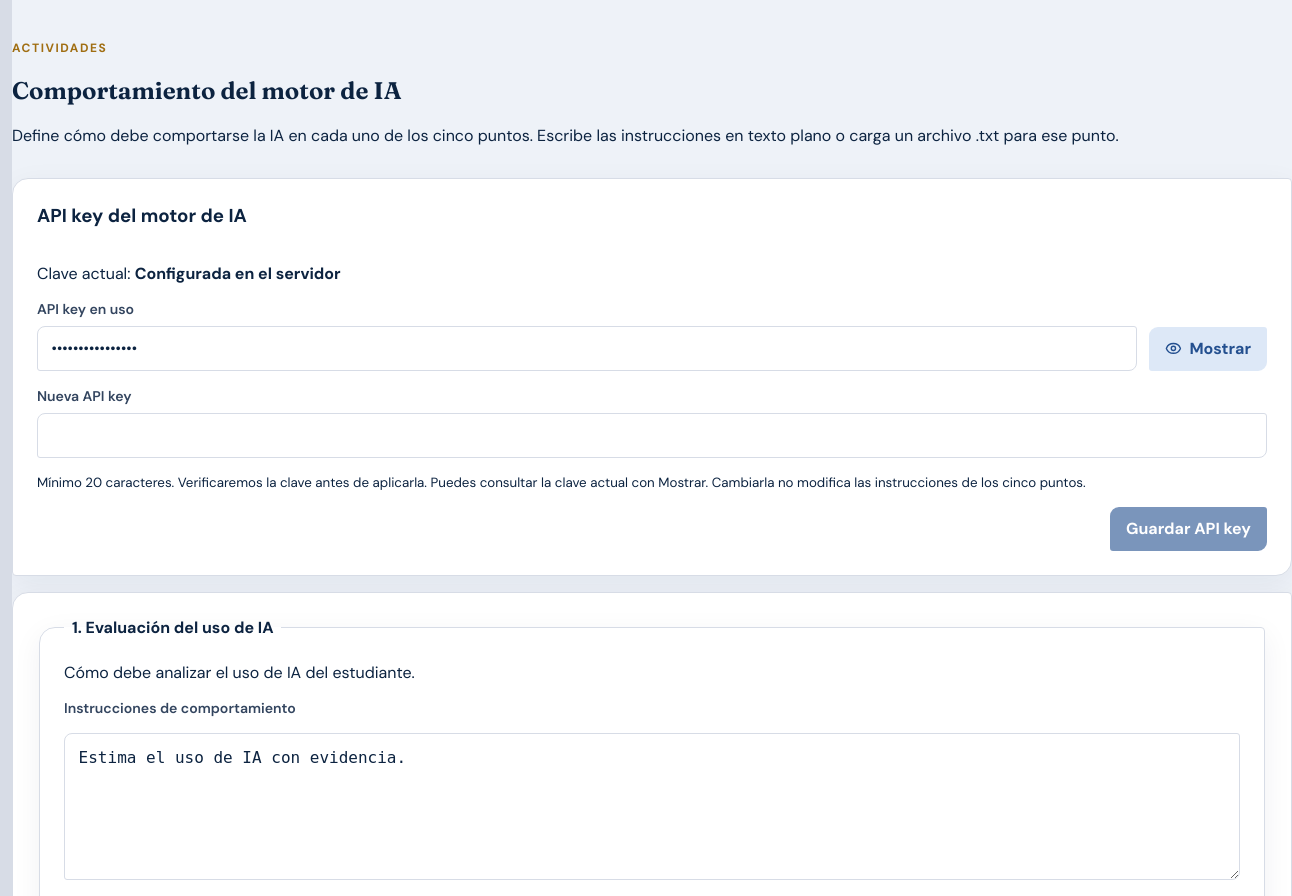
Test: AdminAiSettings › only fetches the active key when requested, hides it, and fetches a fresh key when revealed again
Click the button with class "ai-reveal-key".
click(1208, 349)  # box left=1149, top=327, right=1267, bottom=371
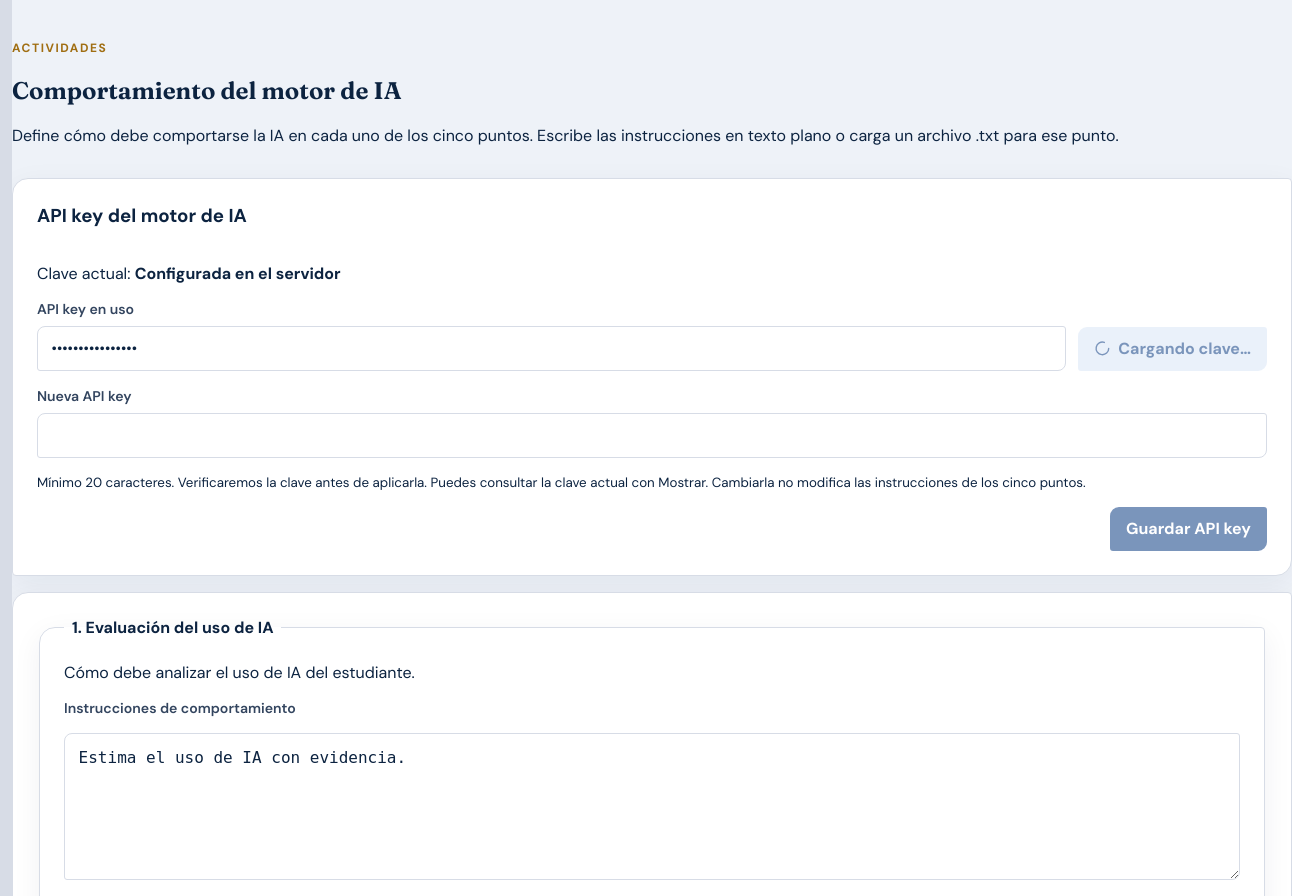
Now the button with class "ai-reveal-key" shows "Cargando clave"
Now the icon with class "icon-spin" is shown, box left=1094, top=340, right=1111, bottom=357
Now the button with class "ai-reveal-key" is disabled
Click the button with class "ai-reveal-key".
click(1173, 349)  # box left=1078, top=327, right=1267, bottom=371
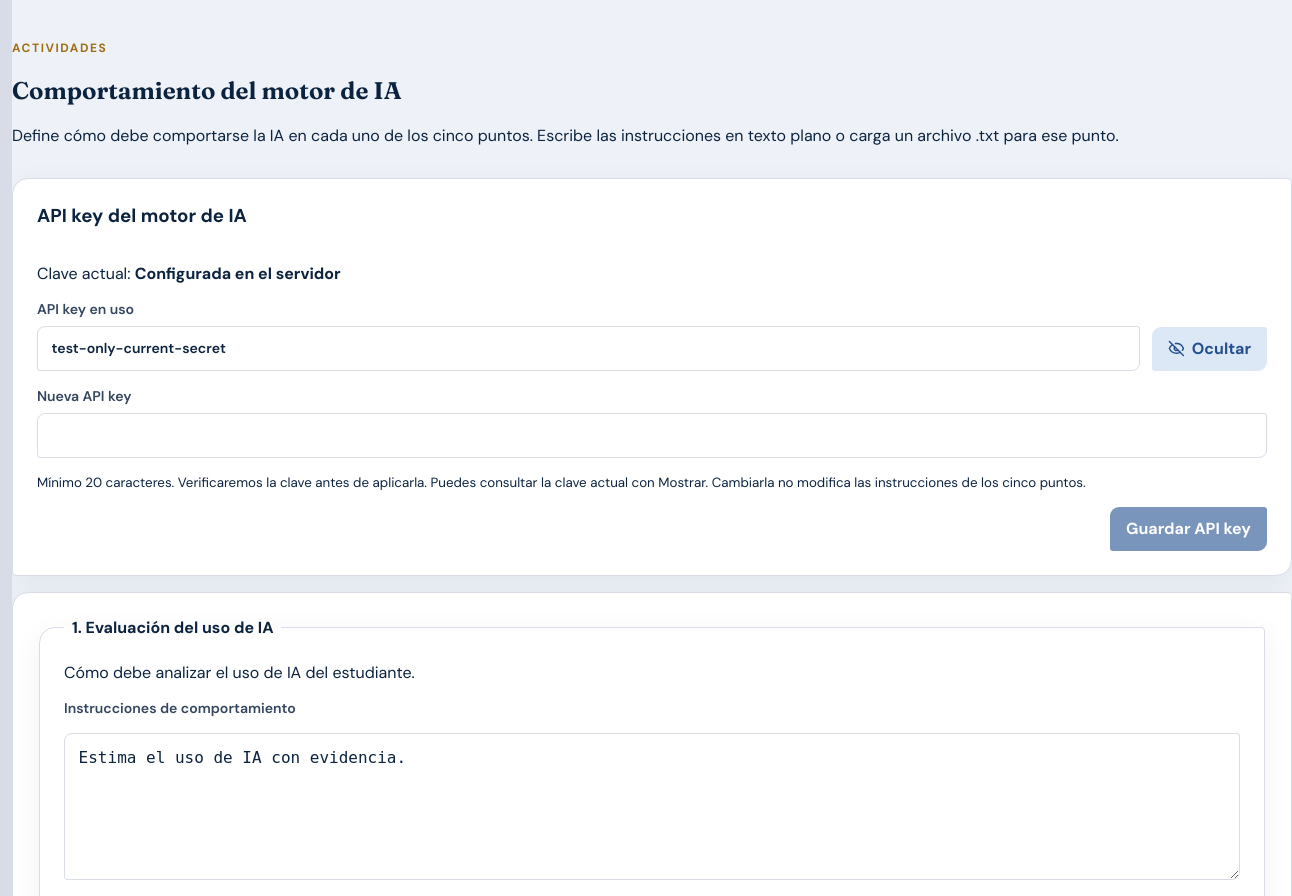
Now the field with id "ai-active-api-key" shows its text, box left=37, top=326, right=1140, bottom=371
Now the field with id "ai-active-api-key" holds "test-only-current-secret", box left=37, top=326, right=1140, bottom=371
Now the button with class "ai-reveal-key" reads "Ocultar"
Click the button with class "ai-reveal-key".
click(1209, 349)  # box left=1152, top=327, right=1267, bottom=371
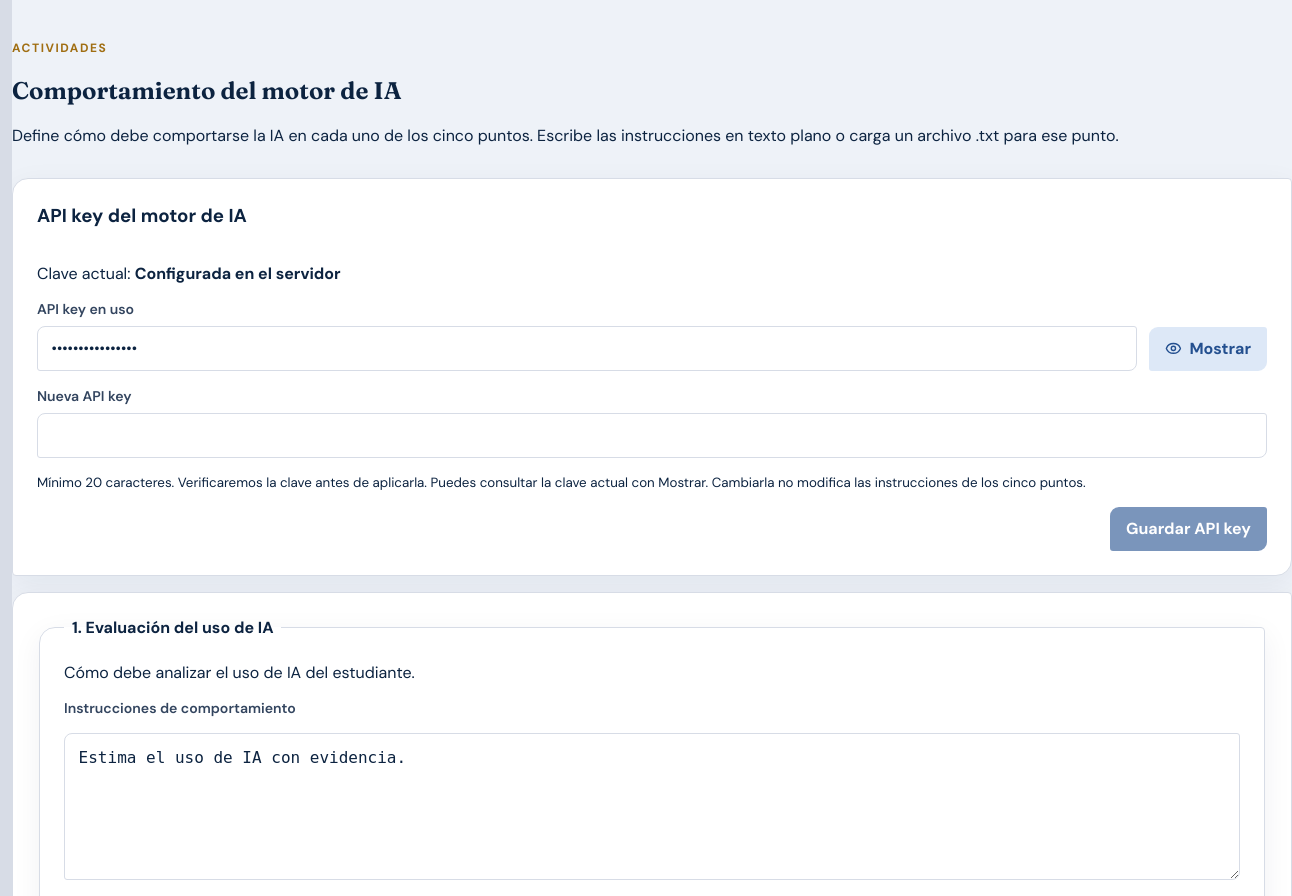
Now the password field with id "ai-active-api-key" hides its text, box left=37, top=326, right=1137, bottom=371
Click the button with class "ai-reveal-key".
click(1208, 349)  # box left=1149, top=327, right=1267, bottom=371
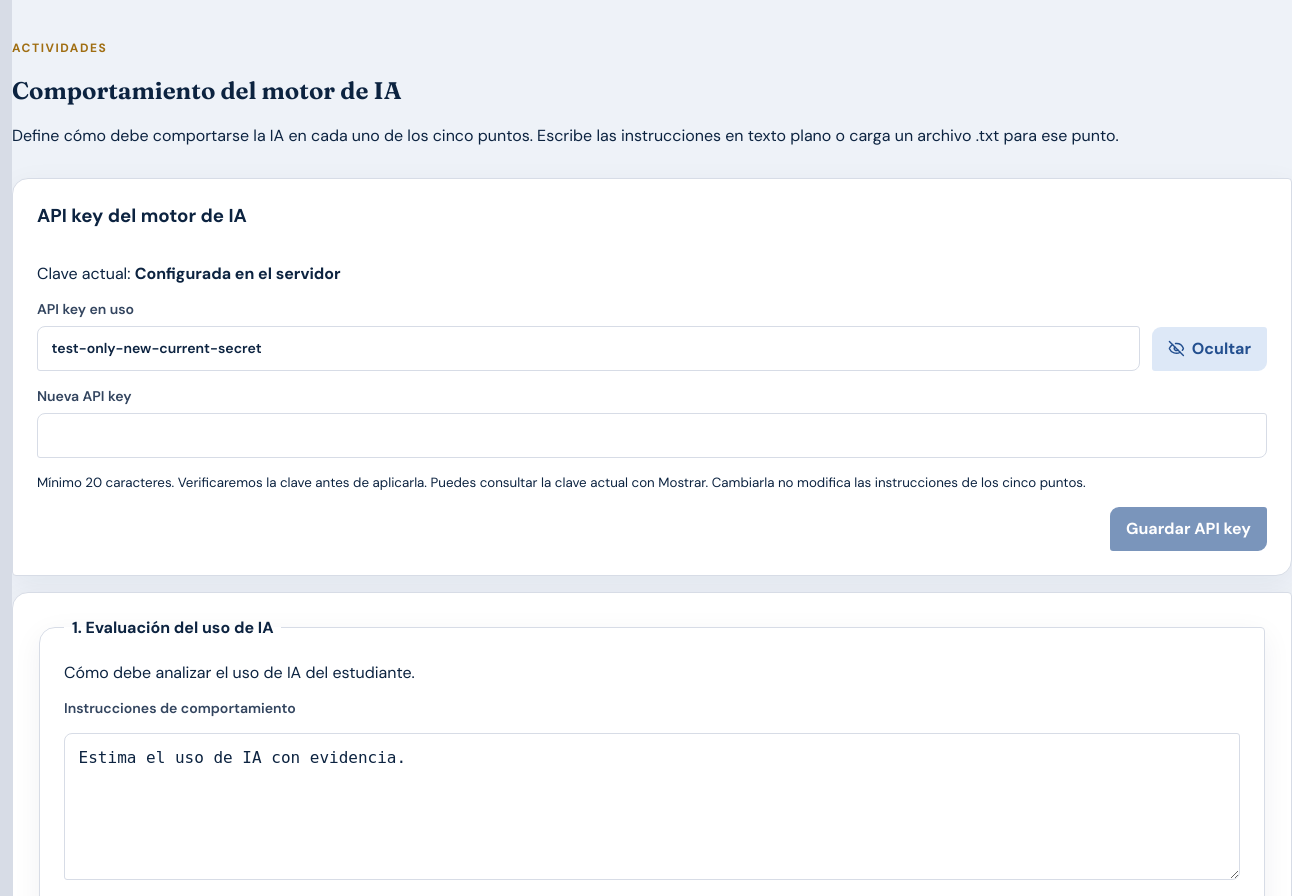
Expected: the password field with id "ai-api-key" is empty, left=37, top=413, right=1267, bottom=458
Now the field with id "ai-active-api-key" holds "test-only-new-current-secret", box left=37, top=326, right=1140, bottom=371
